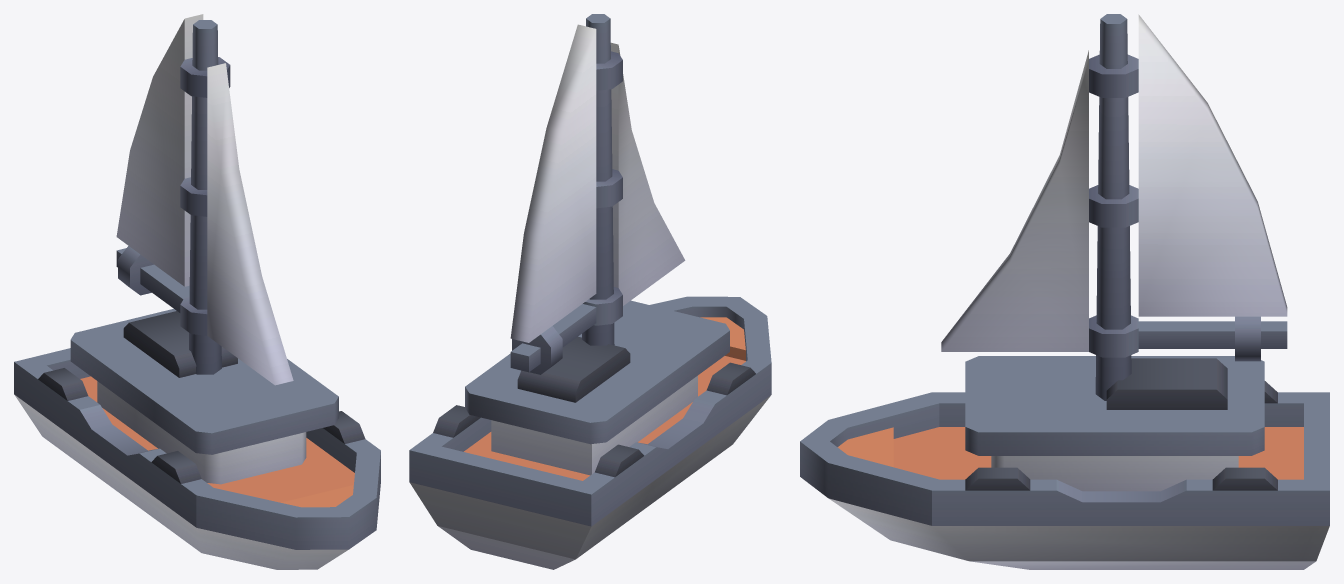
The model's file is k-watercraft-boat-sail-b.glb.
The picture shows the model from 3 angles, left to right: view 1: azimuth 30°, elevation 25°; view 2: azimuth 150°, elevation 25°; view 3: azimuth 270°, elevation 25°; orthographic projection. The views are drawn at different scales.
Visible parts, largest first — view 1: boat-sail-b, sail; view 2: boat-sail-b, sail; view 3: boat-sail-b, sail.
Boxes of the visible parts, x1,y1,x2,y2 form: boat-sail-b: [14, 308, 380, 569]; sail: [116, 14, 293, 385]; boat-sail-b: [409, 296, 771, 569]; sail: [510, 14, 685, 374]; boat-sail-b: [800, 356, 1329, 569]; sail: [941, 14, 1287, 400].
Size of the model in its own units: 1.78 by 4.48 by 4.07.
1 material, 1 textured.
